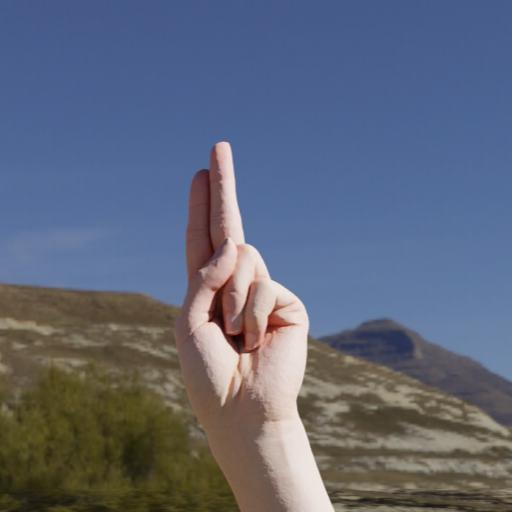U: (149, 110, 346, 440)
